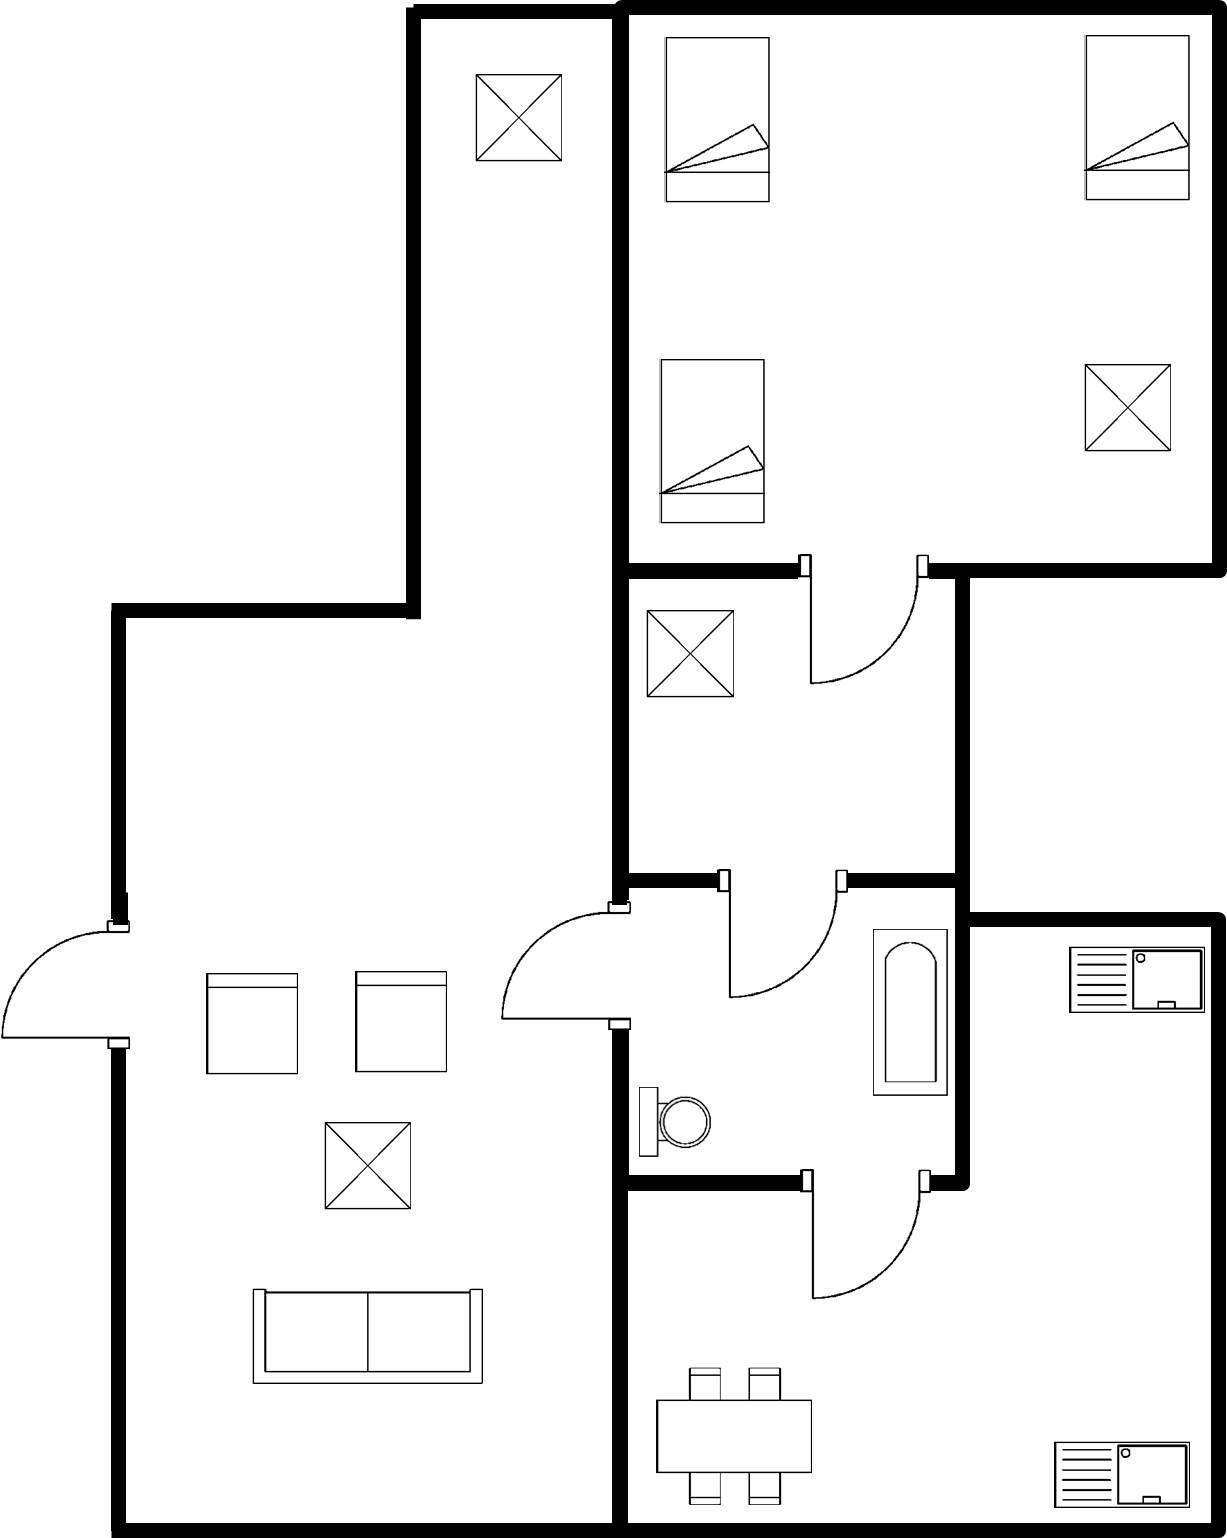bed: (649, 344, 775, 540), (1075, 23, 1198, 217), (655, 29, 784, 208)
coffee_table: (314, 1111, 425, 1223), (460, 64, 572, 171), (1074, 352, 1178, 465), (640, 599, 746, 708)
dining_table: (647, 1359, 828, 1516)
large_sink: (631, 1077, 720, 1170)
large_sofa: (238, 1282, 493, 1397)
sink: (1037, 1428, 1199, 1517), (1055, 937, 1213, 1023)
small_sofa: (346, 962, 462, 1082), (198, 962, 307, 1083)
tub: (865, 917, 956, 1104)
